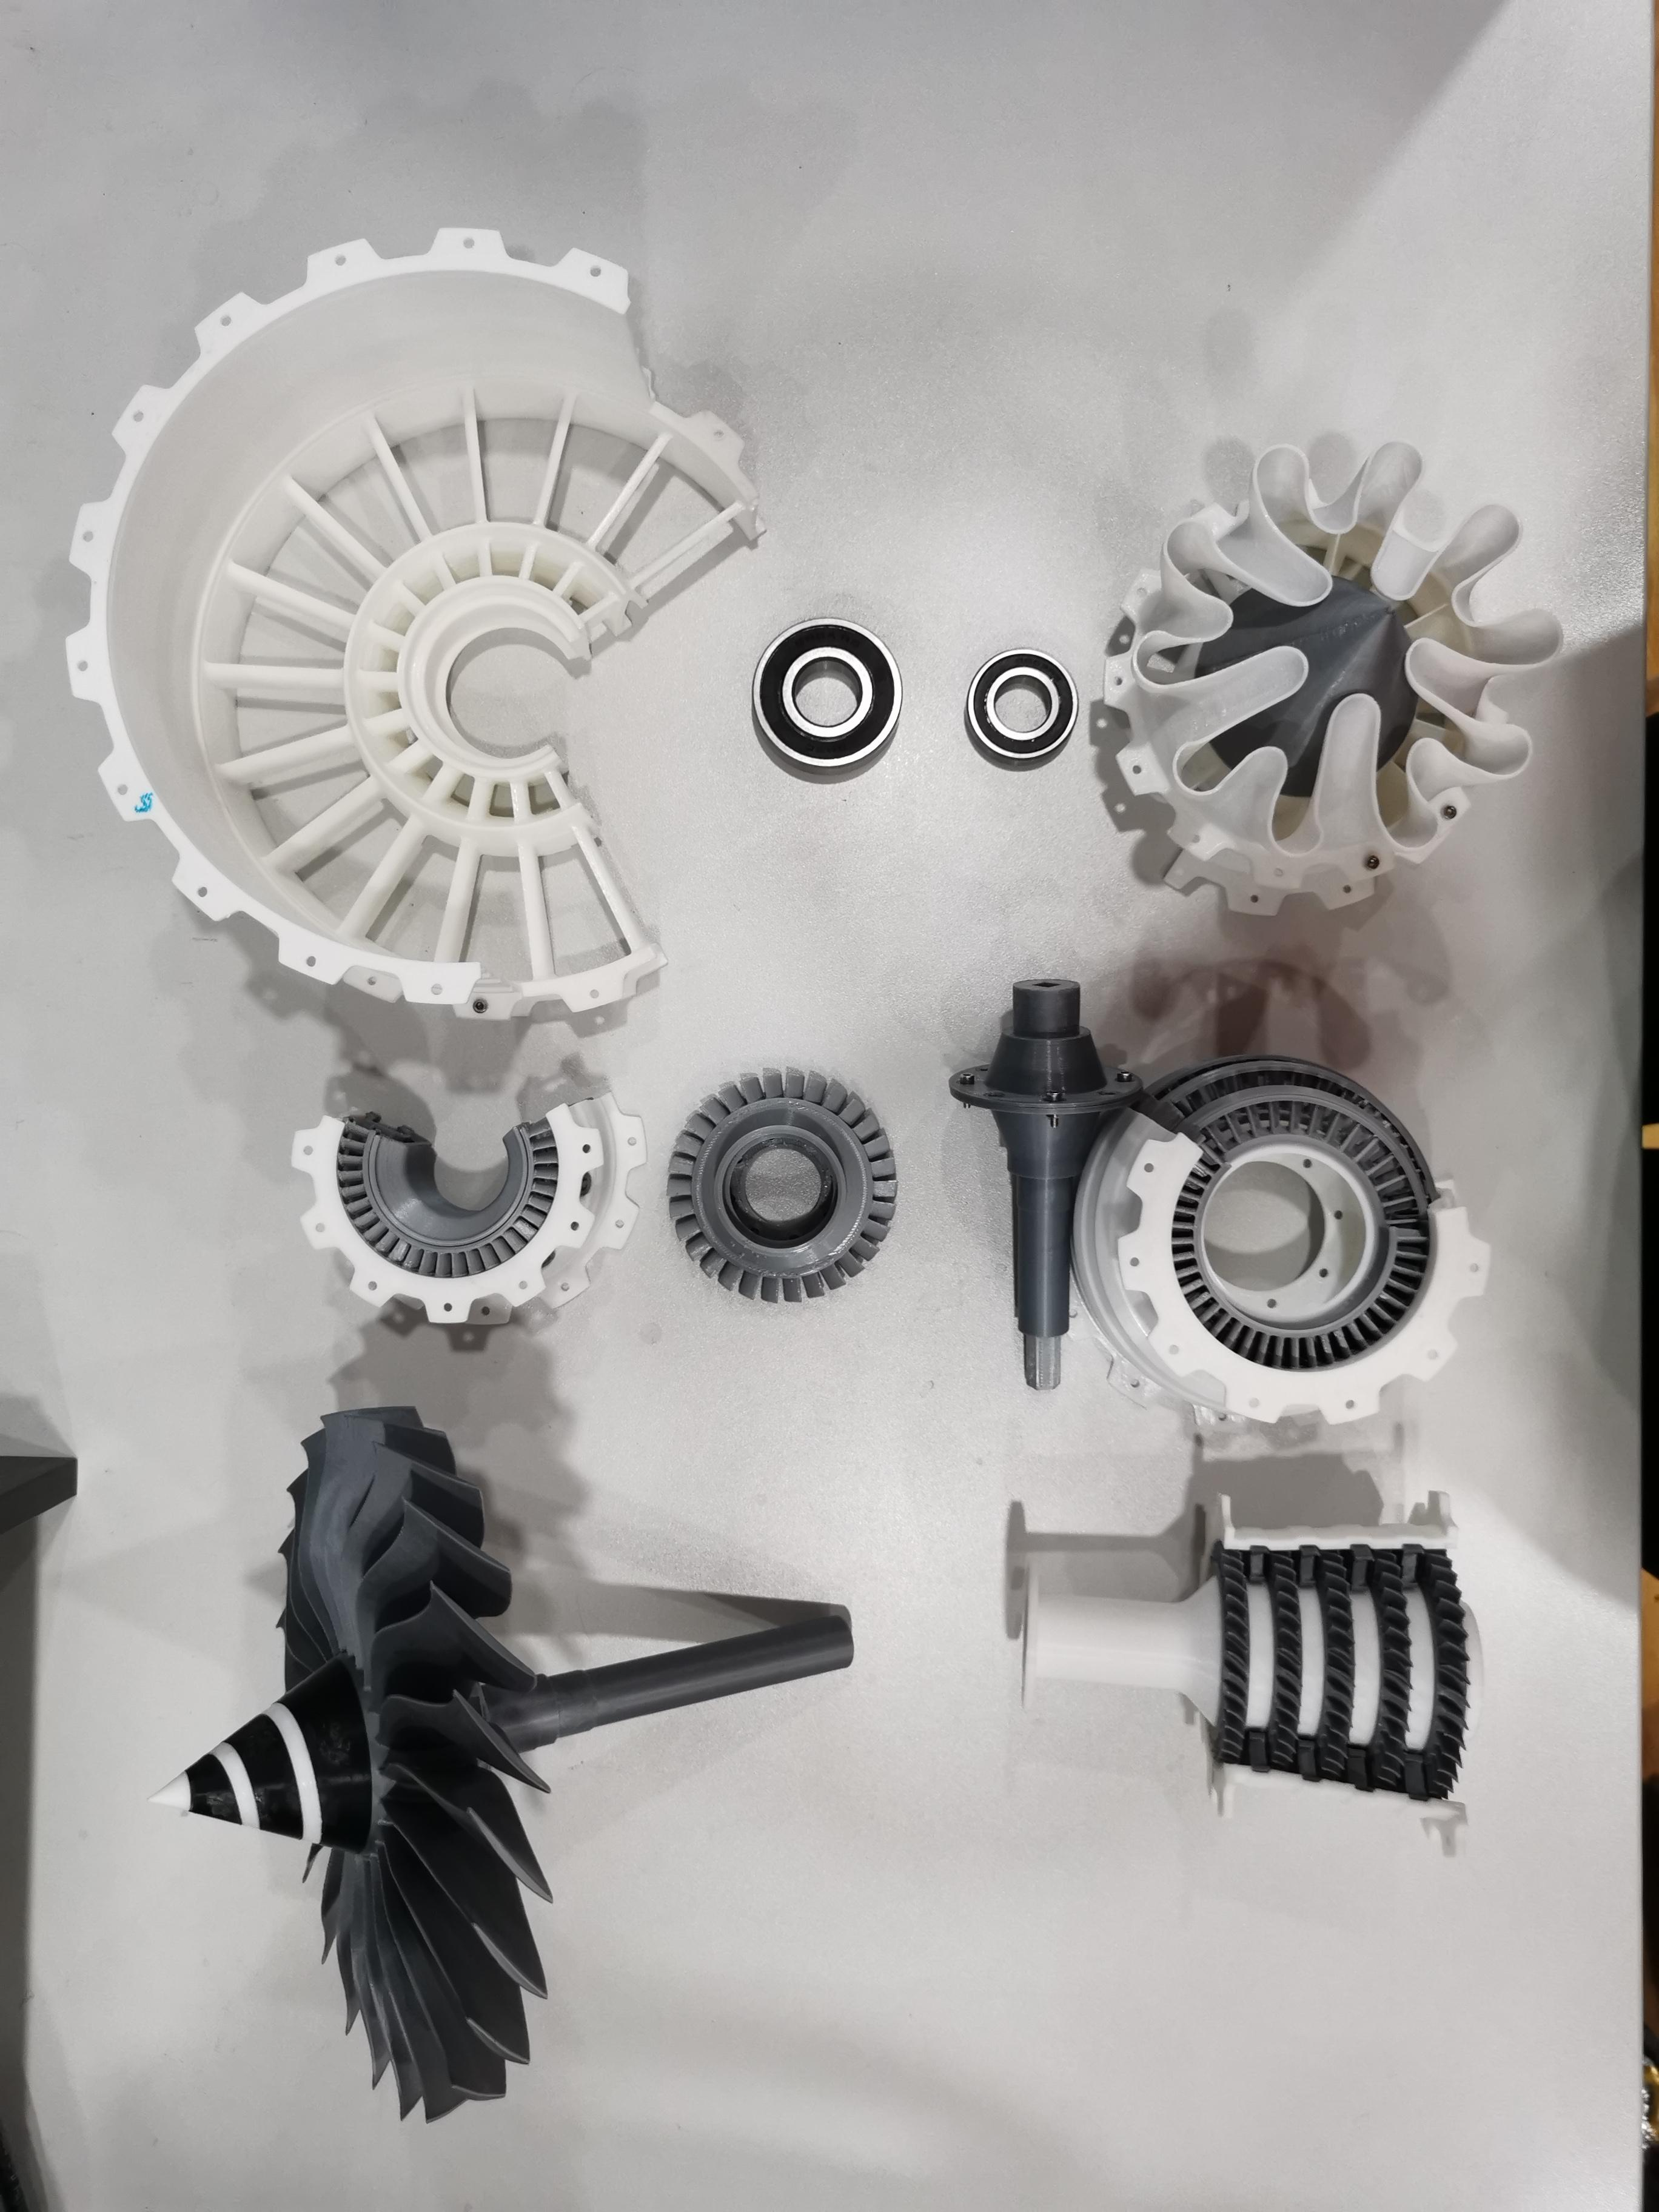Bearing-6003: (936, 625, 1087, 792)
Bearing-6204: (734, 592, 924, 801)
Combustion Section: (256, 1075, 664, 1364)
Fan Casing and Support: (42, 214, 763, 1038)
Fan and Low Pressure Shaft: (132, 1390, 864, 2134)
HPT Section: (664, 1050, 913, 1334)
High Pressure Spool: (988, 1475, 1497, 1867)
LPT Section: (1060, 1026, 1502, 1463)
Low Pressure Spool: (943, 956, 1148, 1399)
Nozzle Section: (1091, 418, 1577, 934)
